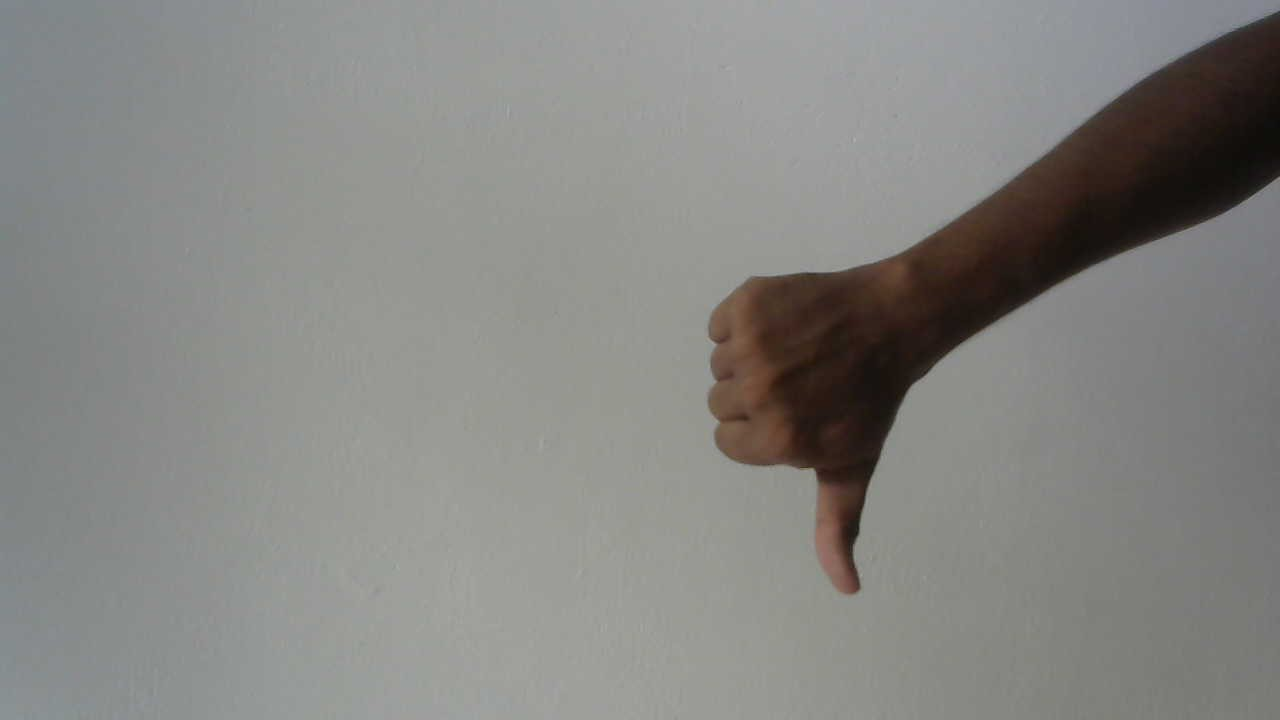thumbsdown: (702, 233, 936, 613)
